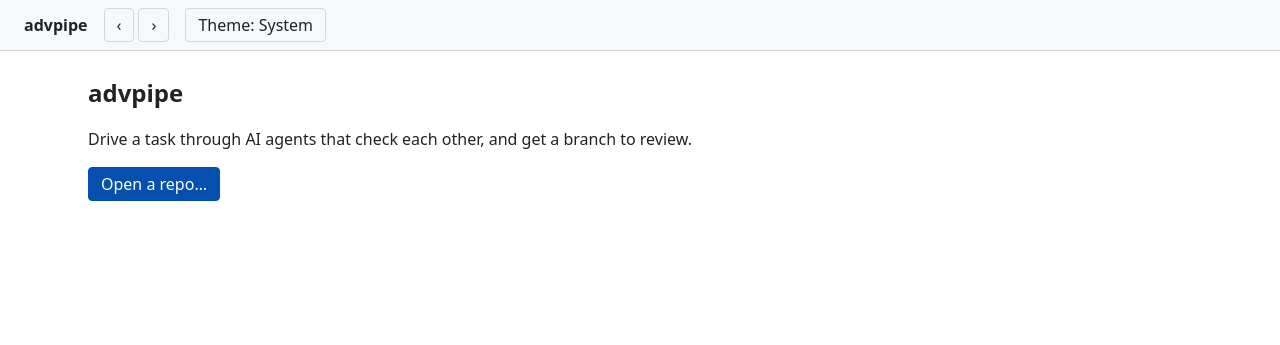
it: run page and welcome › a window with no repo opens on the welcome page, with recents and the picker
Expected: the heading "advpipe" is shown, [88,76,183,109]
What coordinates should you click on to do the following:
click the button "Open a repo…"
I would click on:
 (154, 184)
Its box is [88,167,220,201].
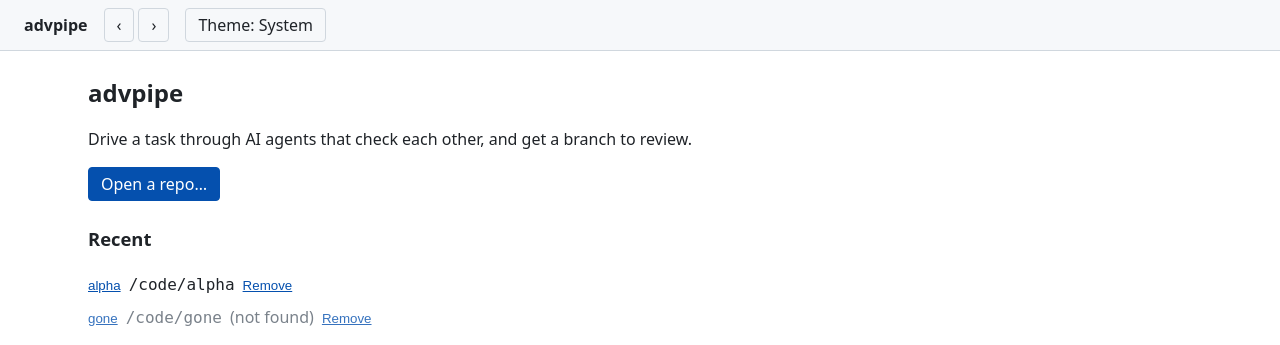
Result: the button "gone" is disabled at [88,311,118,326]
Result: the text "(not found)" is shown at [230,305,314,329]
